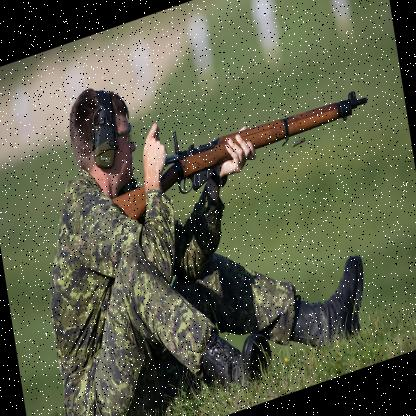rifle: (106, 81, 378, 233)
